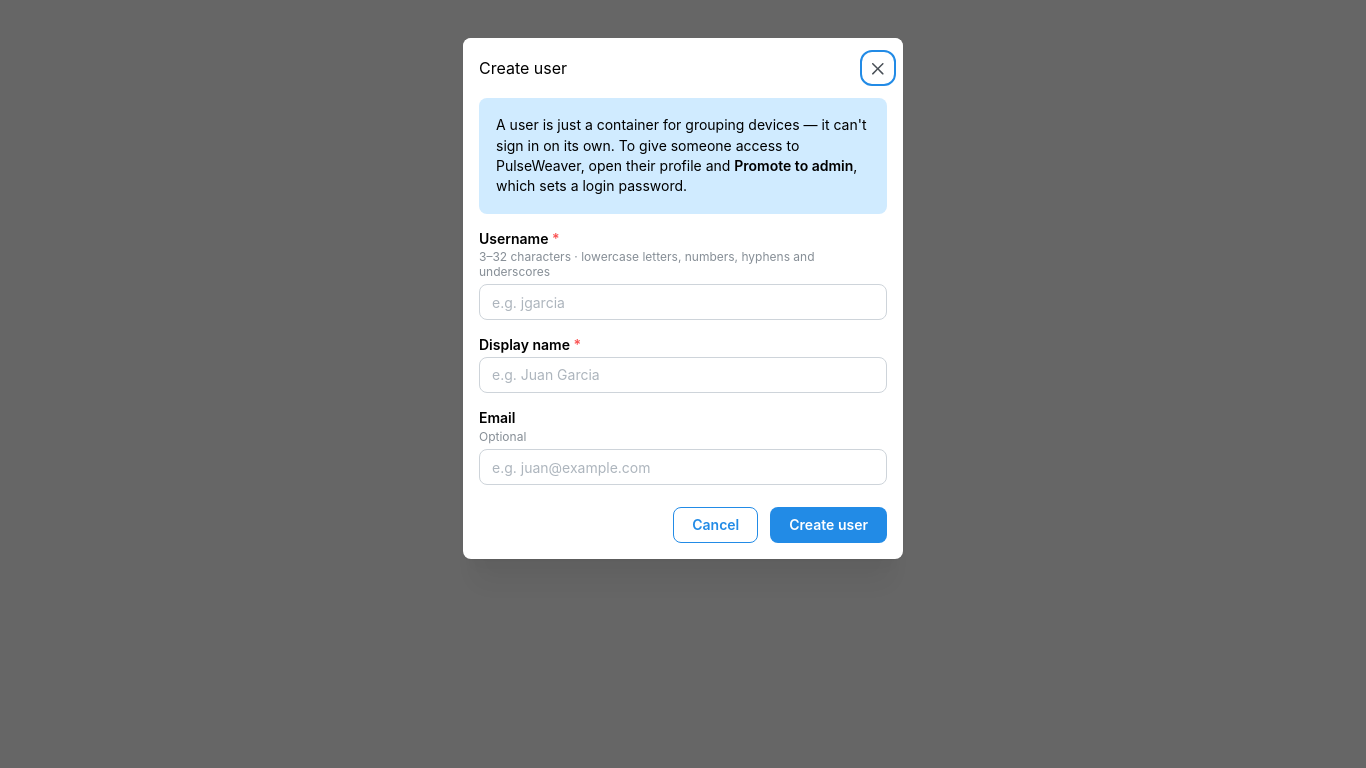
it: CreateUserModal › validates email format
The width and height of the screenshot is (1366, 768).
Type "alice" into the field labelled "Username *" at [683, 302], box [479,284,887,320]
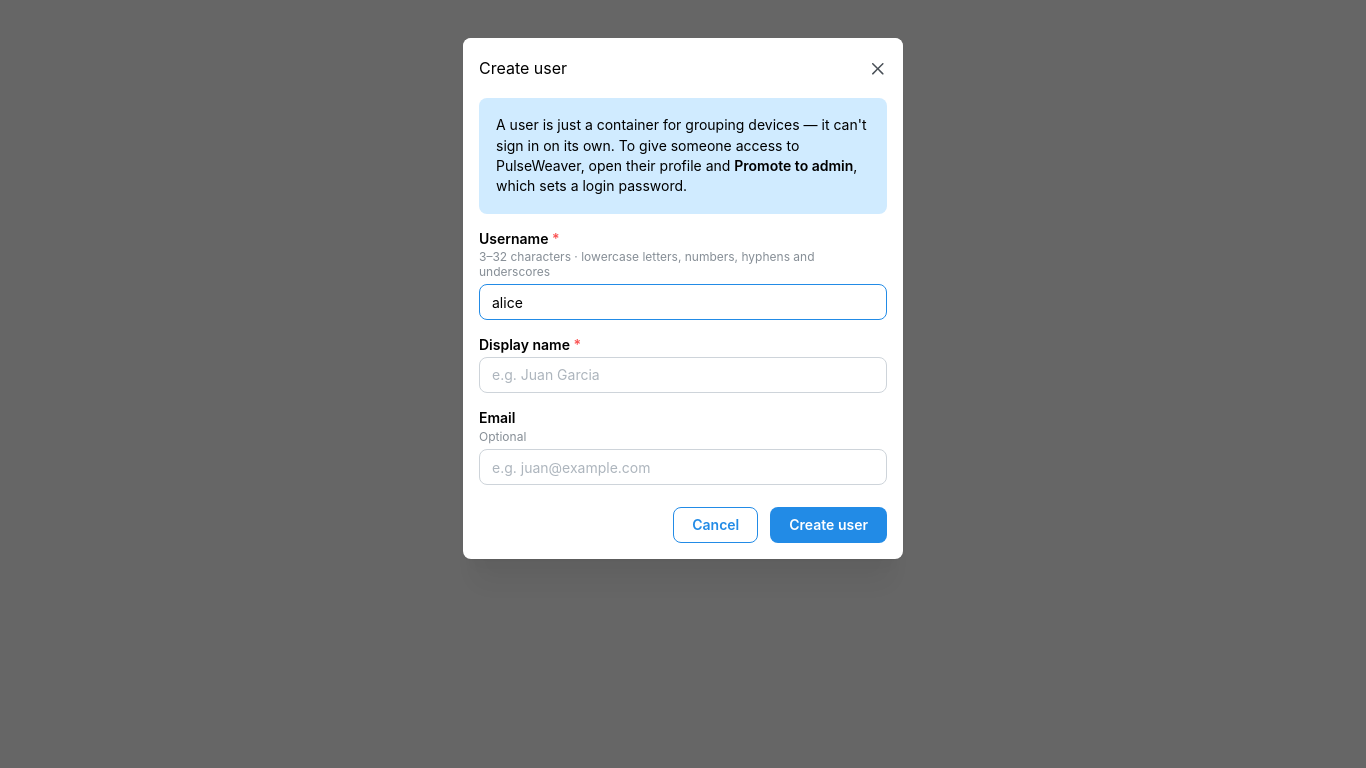
Type "Alice User" into the field labelled "Display name *" at [683, 375], box [479,357,887,393]
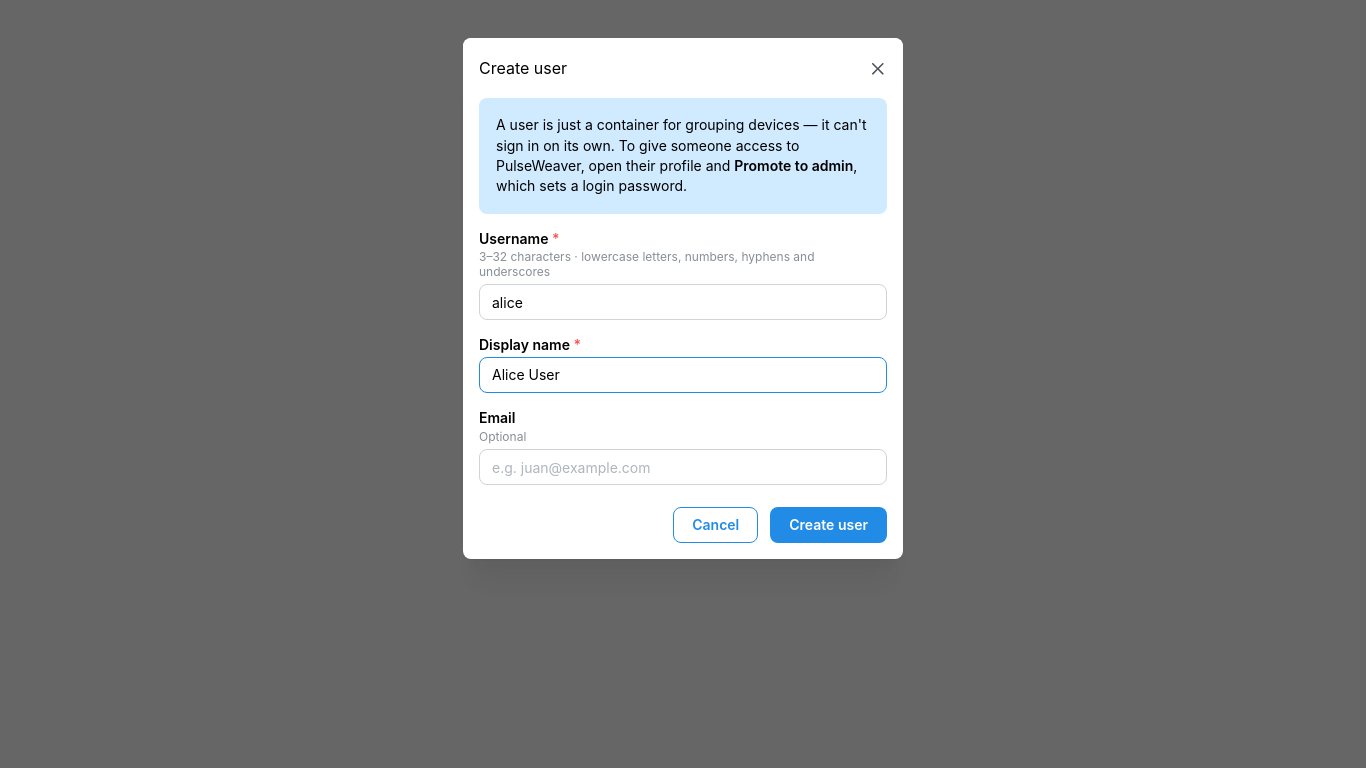
Type "not-an-email" into the field labelled "Email" at [683, 467], box [479,449,887,485]
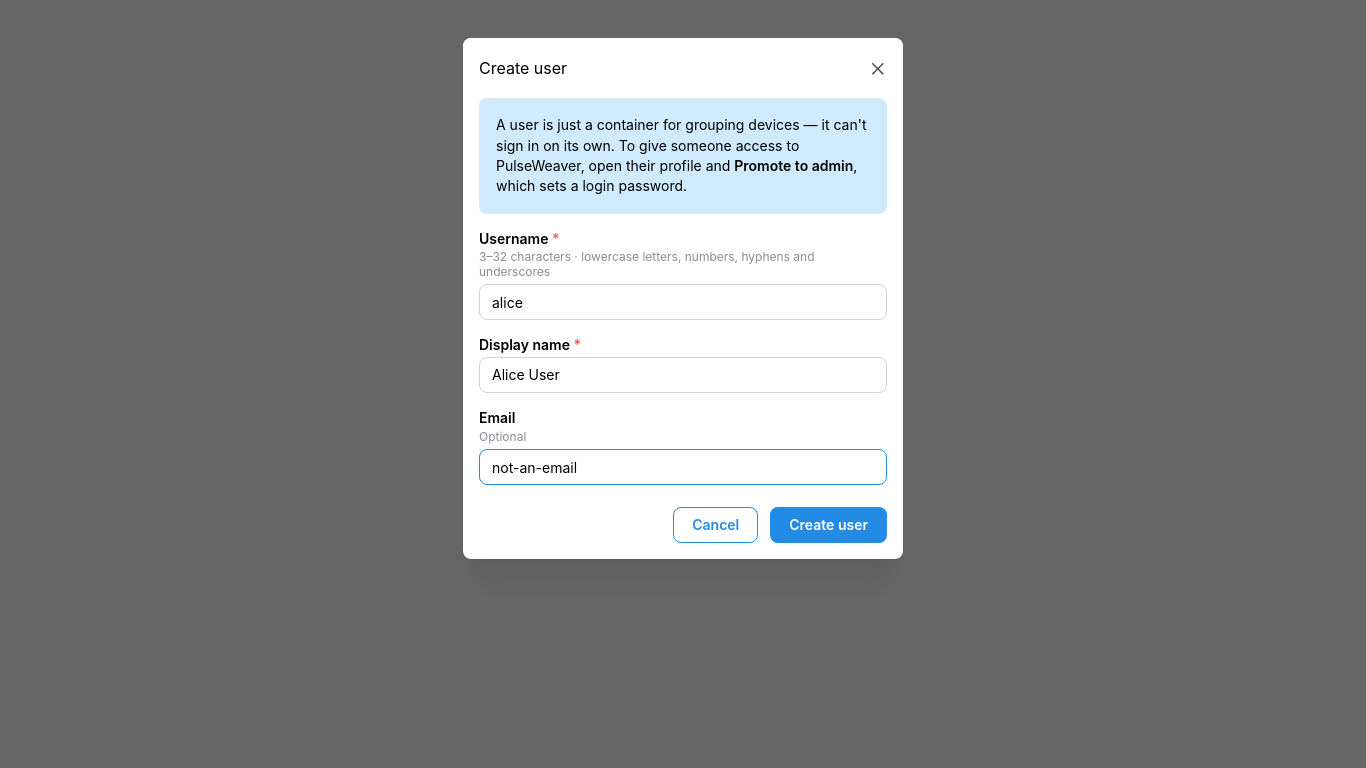
Click the button "Create user" at [829, 525], box [770,507,887,543]
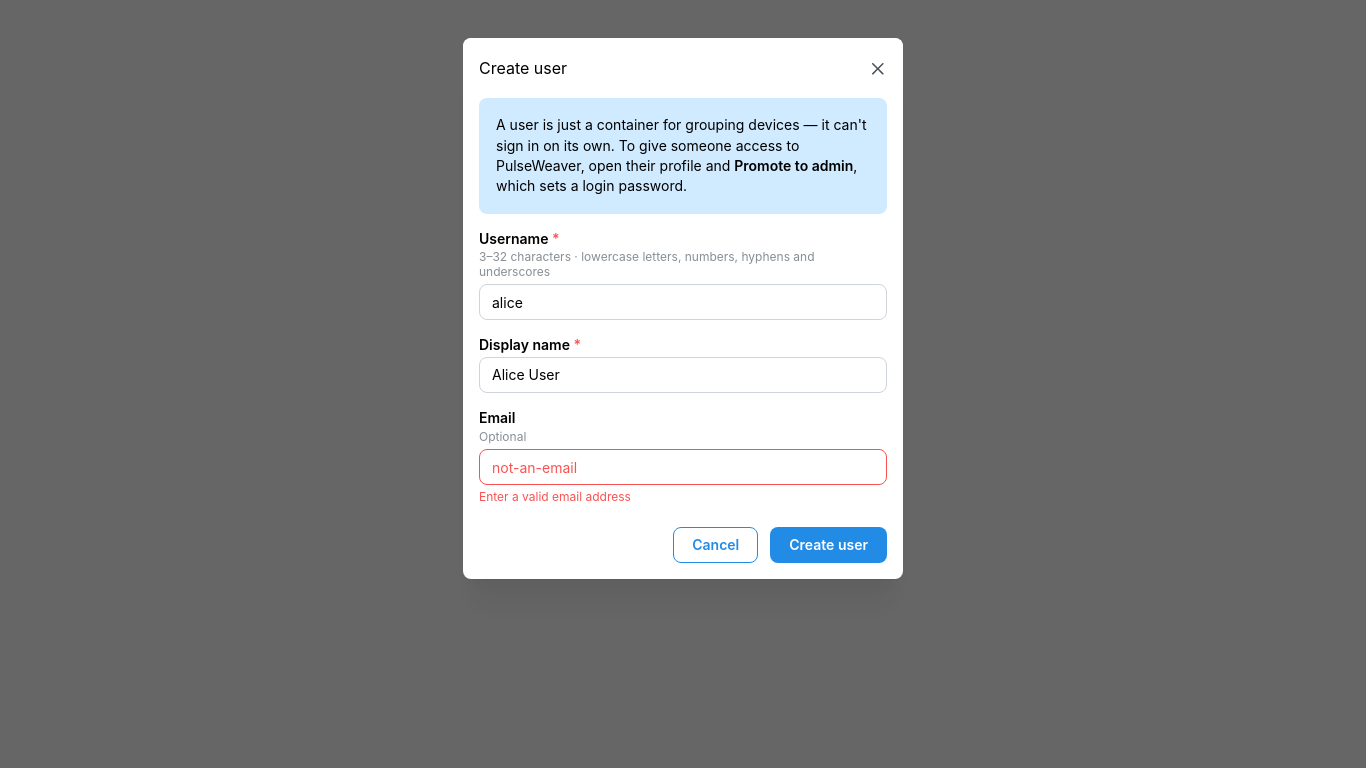
Expected: the text "Enter a valid email address" is shown, [479,489,631,504]
